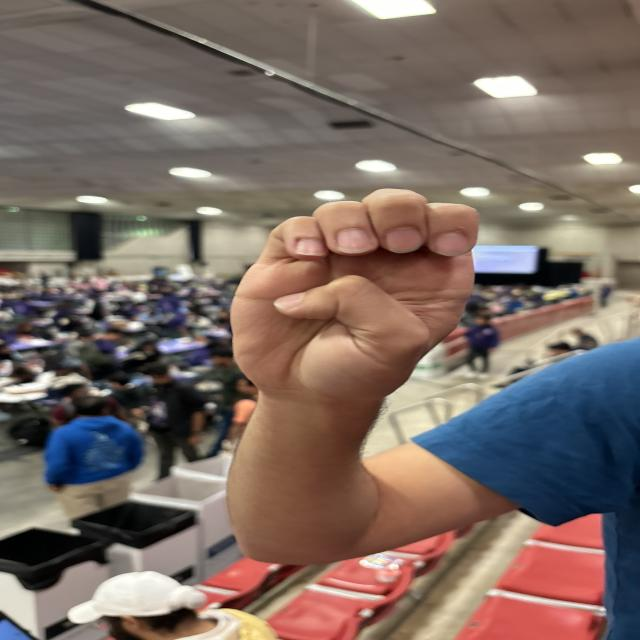E: (204, 182, 504, 406)
